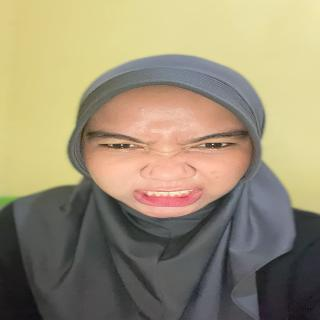Marah: (83, 77, 260, 222)
